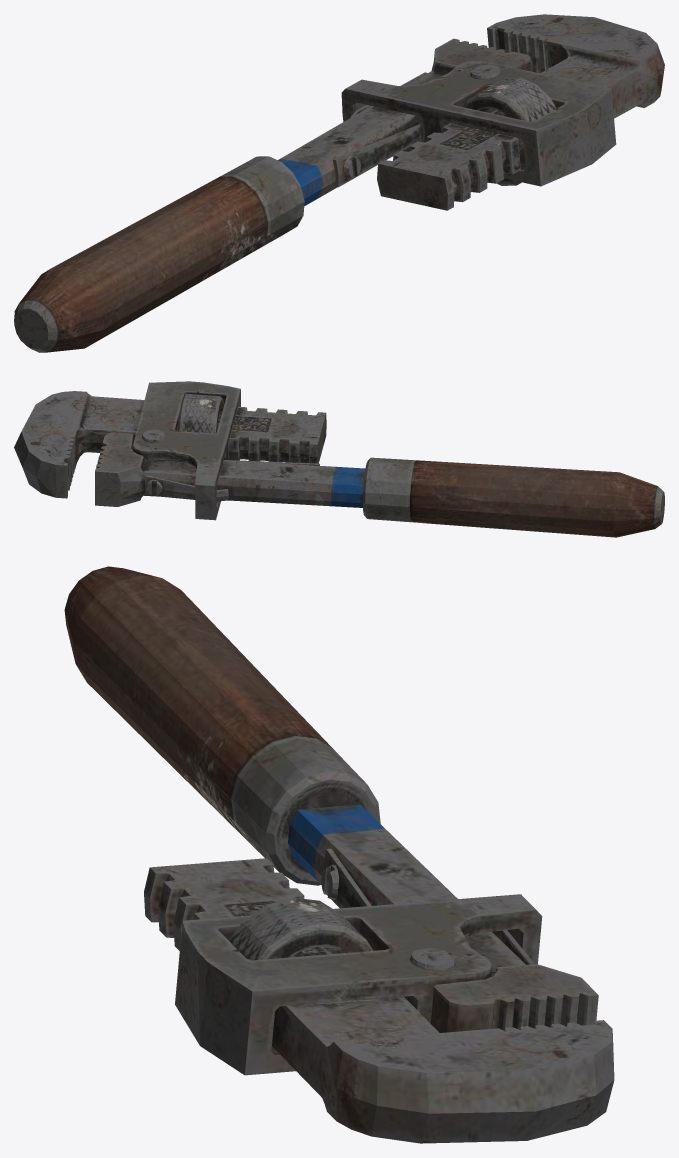
The model's file is mechanic-keyblade.glb.
The picture shows the model from 3 angles, top to bottom: view 1: azimuth 30°, elevation 25°; view 2: azimuth 150°, elevation 25°; view 3: azimuth 270°, elevation 25°; orthographic projection. The views are drawn at different scales.
Visible parts, largest first — view 1: geometry_0; view 2: geometry_0; view 3: geometry_0.
Boxes of the visible parts, left/top/right/bottom form: geometry_0: left=14, top=14, right=664, bottom=352; geometry_0: left=14, top=381, right=664, bottom=537; geometry_0: left=64, top=566, right=614, bottom=1143.
Bounding box in the file's own units: 0.5041 × 0.0653 × 0.2155.
1 material, 1 textured.
